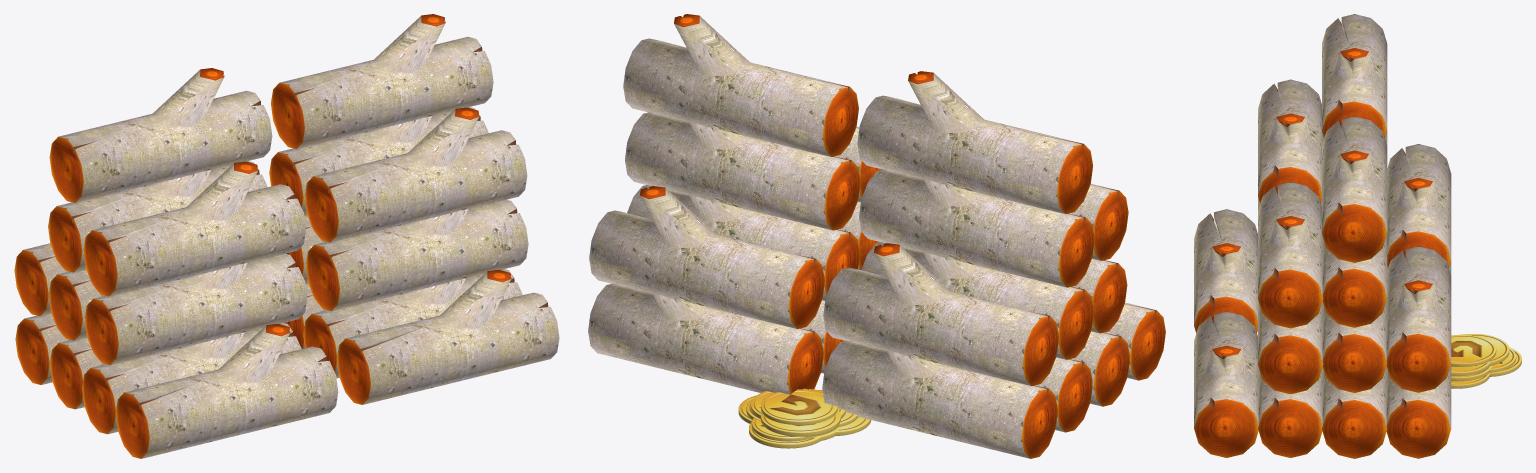
The model's file is CowFence_INIT.glb.
3 renders of one model, left to right at view 1: azimuth 30°, elevation 25°; view 2: azimuth 150°, elevation 25°; view 3: azimuth 270°, elevation 25°, orthographic. The views are drawn at different scales.
Visible parts, largest first — view 1: CowFence_INIT; view 2: CowFence_INIT; view 3: CowFence_INIT.
Boxes of the visible parts, bbox=[...] form: CowFence_INIT: bbox=[14, 14, 559, 458]; CowFence_INIT: bbox=[588, 14, 1165, 458]; CowFence_INIT: bbox=[1194, 14, 1521, 458].
Bounding box in the file's own units: 2.07 × 1.43 × 1.5.
6 materials, 5 textured.
